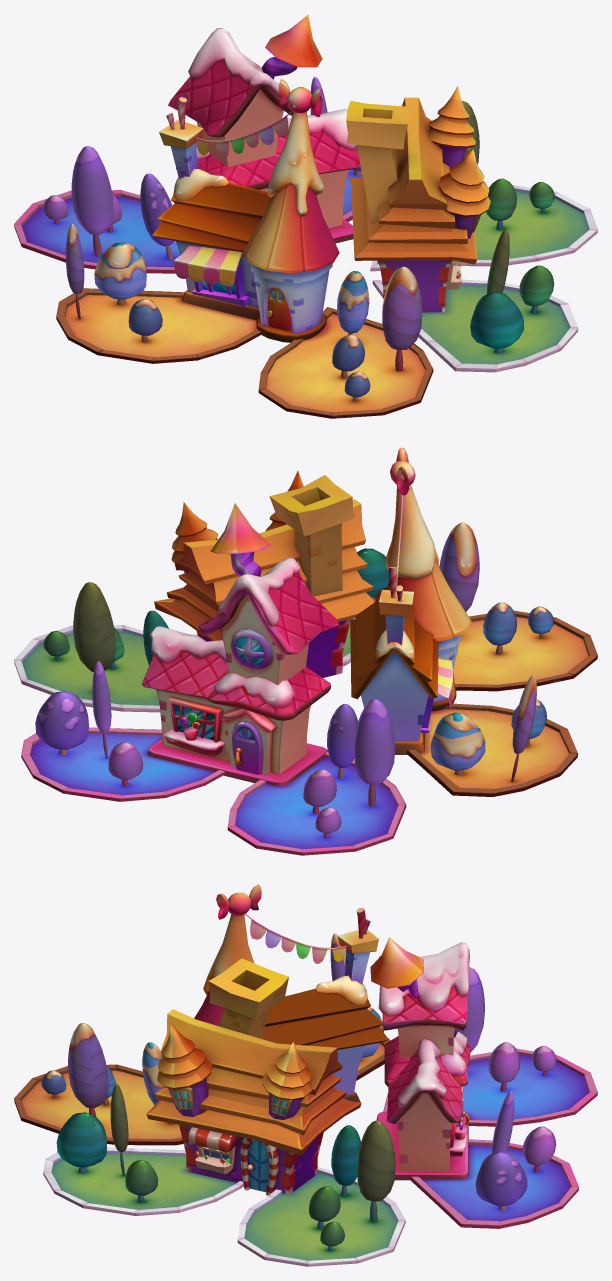
The model's file is candy_houses.fbx.
The picture shows the model from 3 angles, top to bottom: view 1: azimuth 30°, elevation 25°; view 2: azimuth 150°, elevation 25°; view 3: azimuth 270°, elevation 25°; orthographic projection. The views are drawn at different scales.
Parts seen in each view (by area): view 1: candy_houses; view 2: candy_houses; view 3: candy_houses.
Part boxes in pixels (left/top/right/bottom): candy_houses: left=14, top=14, right=597, bottom=418; candy_houses: left=14, top=447, right=597, bottom=855; candy_houses: left=14, top=884, right=597, bottom=1266.
Bounding box in the file's own units: 951 × 437 × 963.
Materials: 6 (6 with a texture image).
